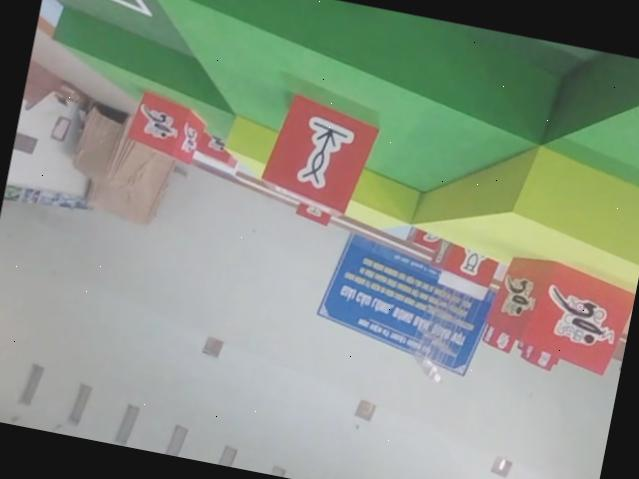R1: (478, 250, 638, 380), (119, 83, 212, 169)
R2 Real: (255, 89, 382, 222)
